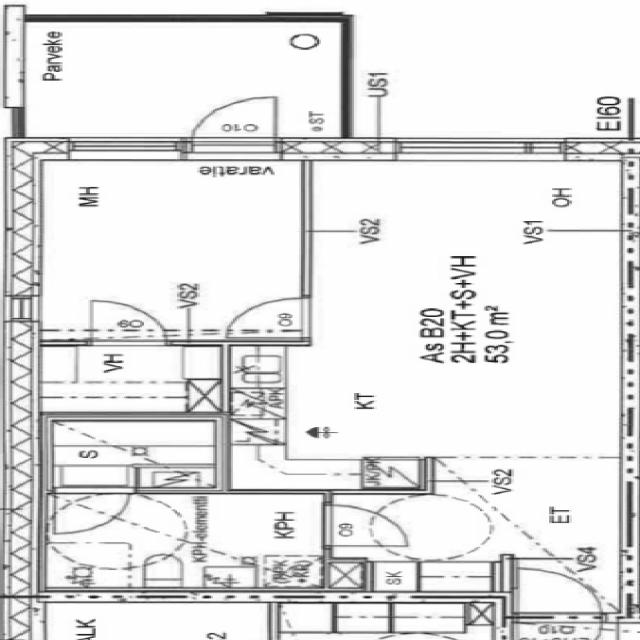door: (193, 93, 276, 160), (518, 566, 603, 622), (324, 504, 410, 546), (92, 300, 166, 346), (56, 488, 129, 532), (232, 299, 313, 337), (518, 611, 603, 640)
